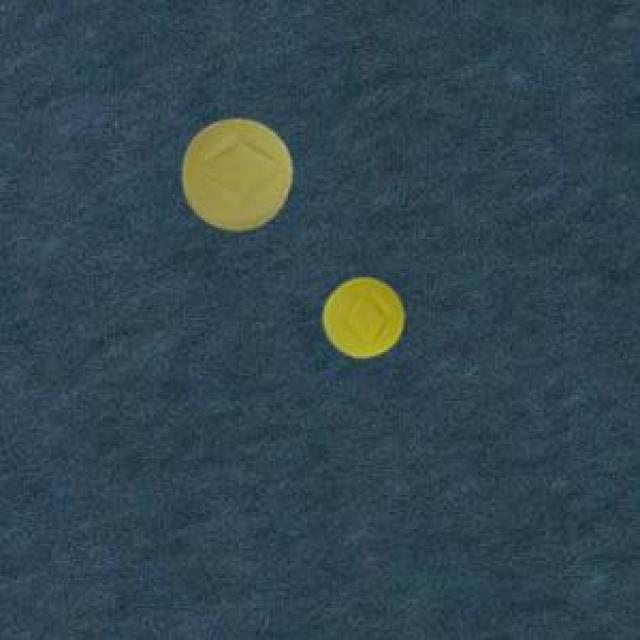Decolgen: (166, 103, 305, 237), (309, 270, 416, 369)
